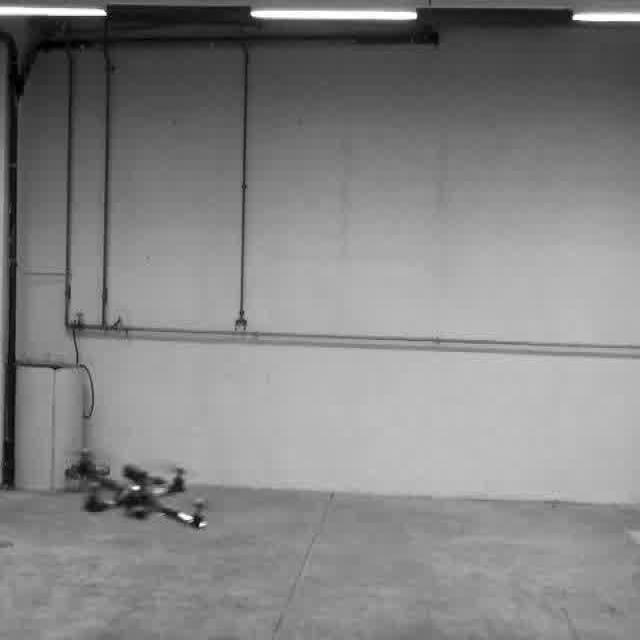drone: (52, 434, 224, 540)
